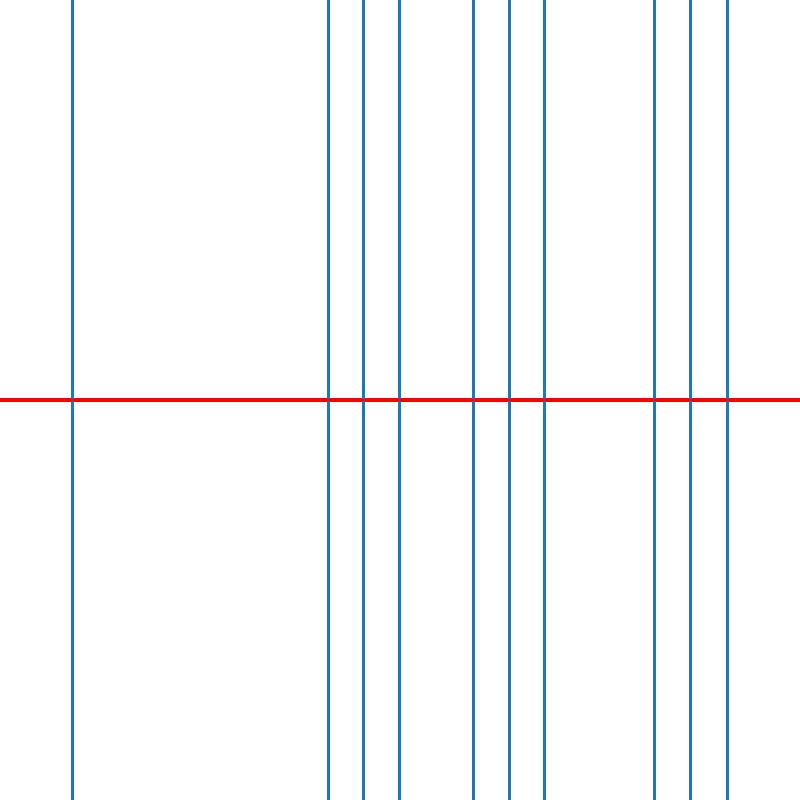root: (541, 396, 549, 404), (650, 396, 658, 404), (723, 396, 730, 404), (360, 396, 367, 404), (505, 396, 512, 404), (687, 396, 694, 404), (469, 396, 476, 404), (69, 396, 76, 404), (396, 396, 403, 404), (323, 396, 330, 404)
